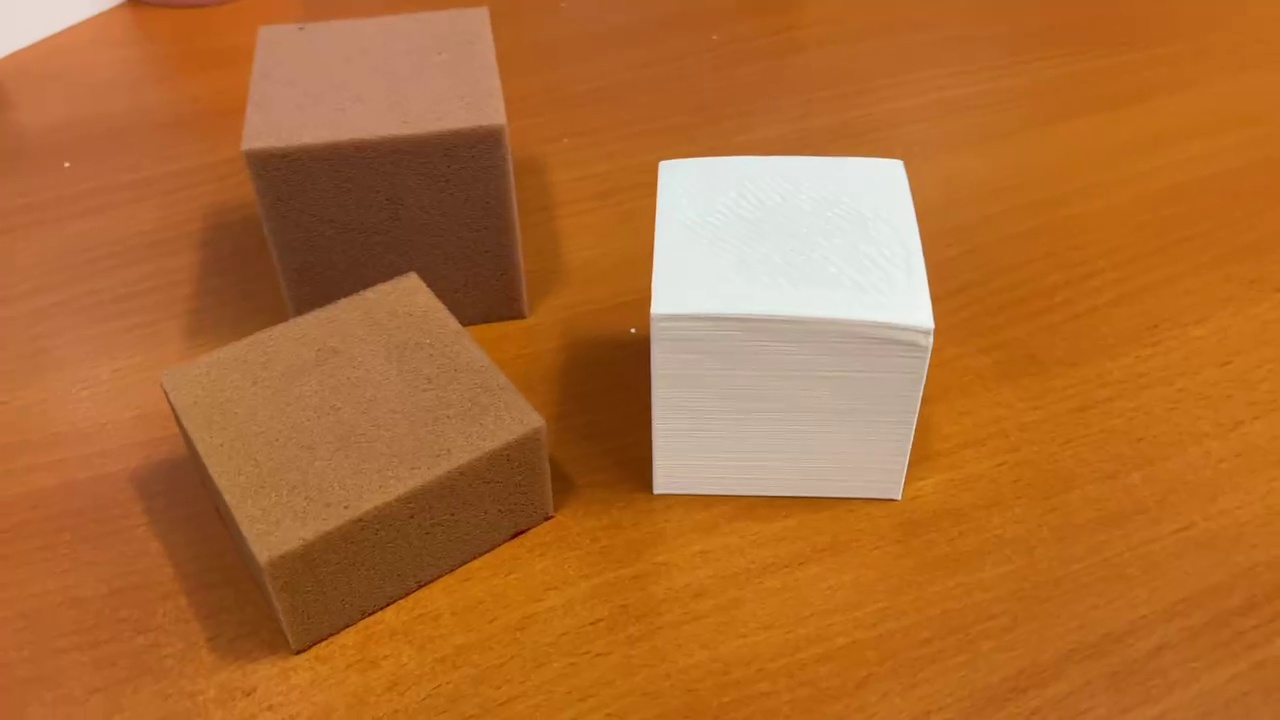Cube: (644, 150, 945, 509), (239, 1, 534, 339)
Cube_short: (153, 261, 560, 658)
